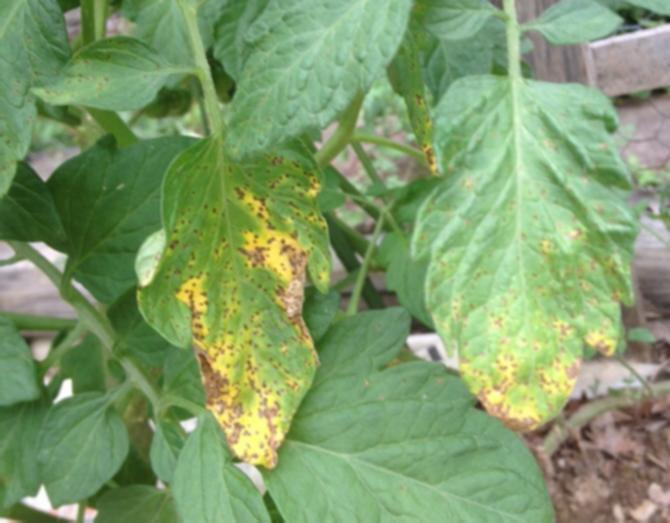Tomato Septoria leaf spot: (398, 76, 641, 447), (131, 128, 331, 476)
